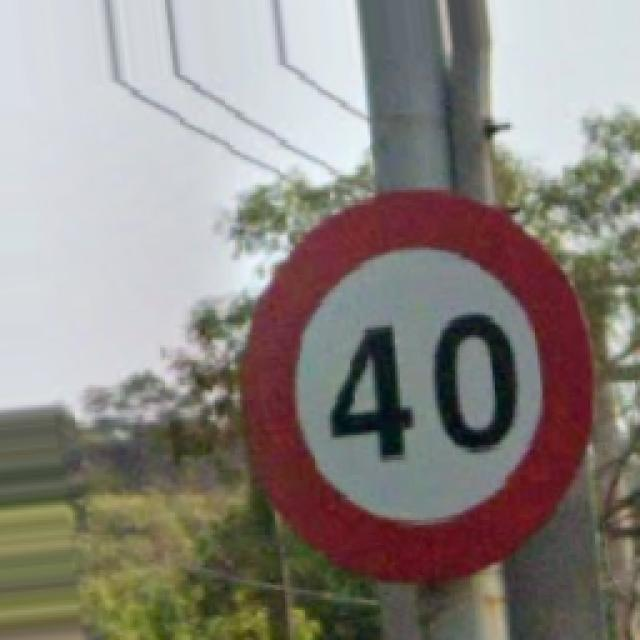Speed Limit -40-: (245, 192, 588, 580)
